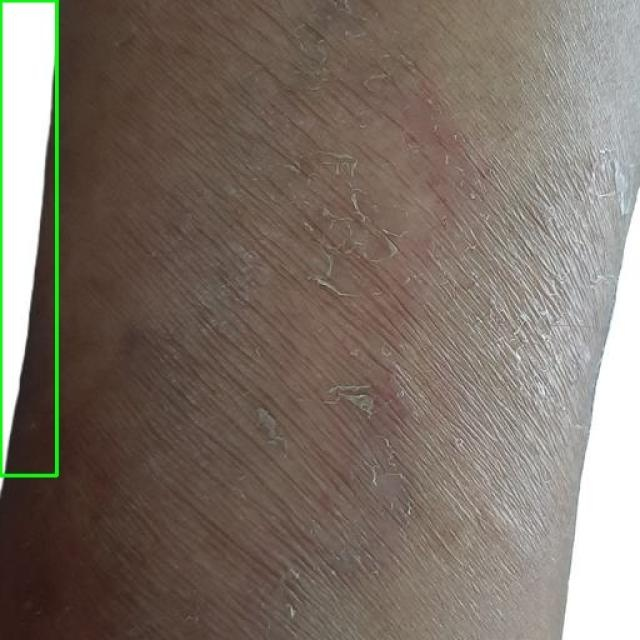Tinea Corporis: (0, 0, 56, 475)
